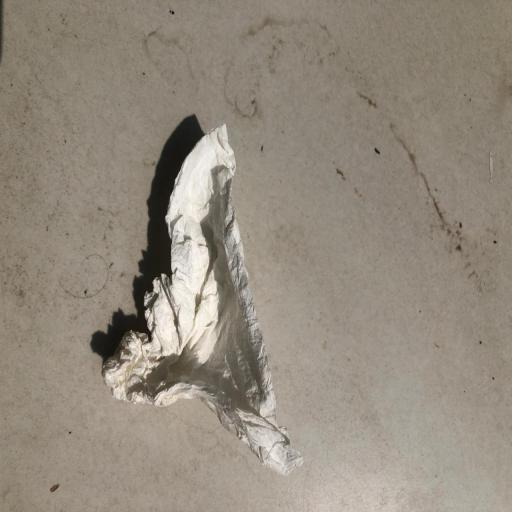waste: (92, 113, 322, 482)
